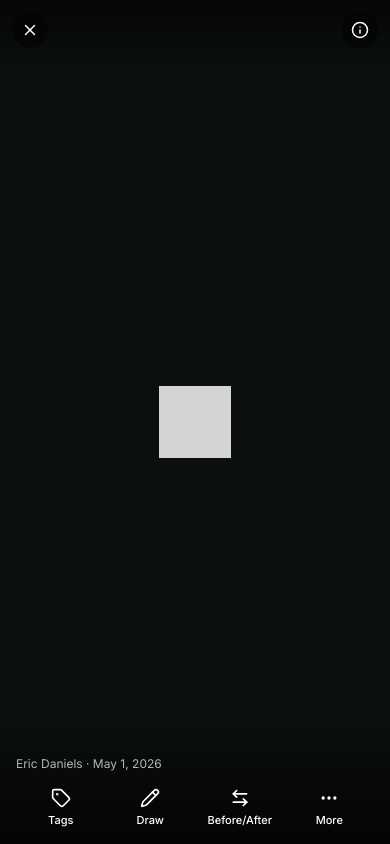
Test case: PhotoViewer — phone layout › offers Restore Original in the info panel for an annotated Photo
Click the button named "details" at (360, 30), box x1=342 y1=12 x2=378 y2=48
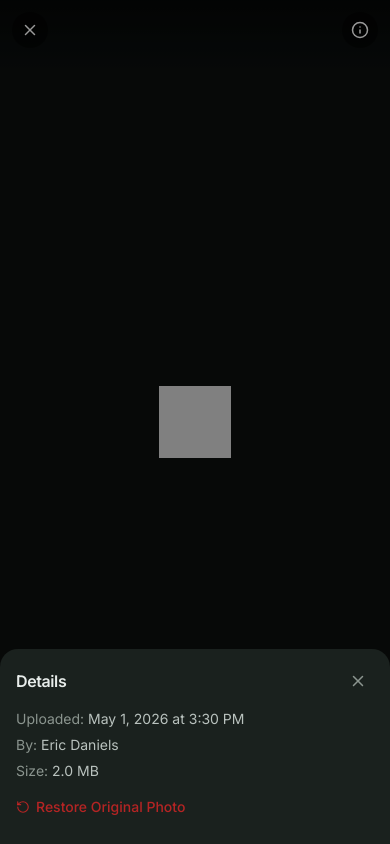
Expected: the button "Restore Original Photo" is shown, x1=16 y1=797 x2=185 y2=817
